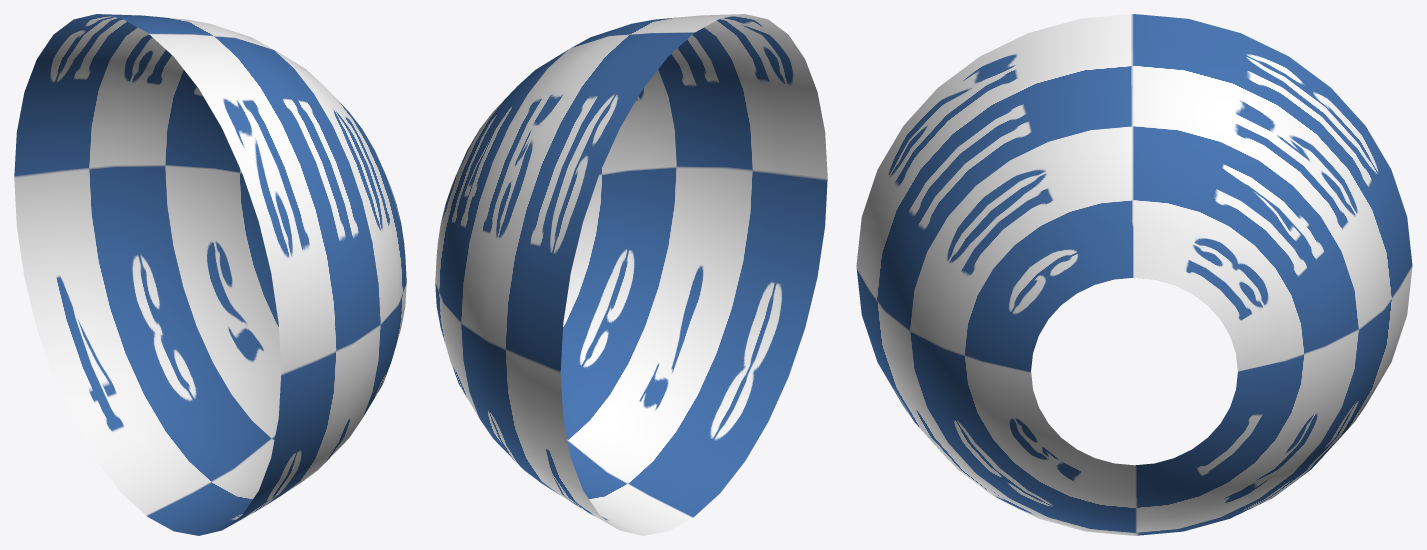
The model's file is Ring15.fbx.
3 views of the same model, side by side, from view 1: azimuth 30°, elevation 25°; view 2: azimuth 150°, elevation 25°; view 3: azimuth 270°, elevation 25° (orthographic). The views are drawn at different scales.
Parts seen in each view (by area): view 1: SM_e_cmn_Ring015; view 2: SM_e_cmn_Ring015; view 3: SM_e_cmn_Ring015.
Boxes of the visible parts, x1=… form: SM_e_cmn_Ring015: x1=14, y1=14, x2=406, y2=535; SM_e_cmn_Ring015: x1=435, y1=14, x2=827, y2=535; SM_e_cmn_Ring015: x1=856, y1=14, x2=1412, y2=535.
Bounding box in the file's own units: 46.19 × 103 × 103.
